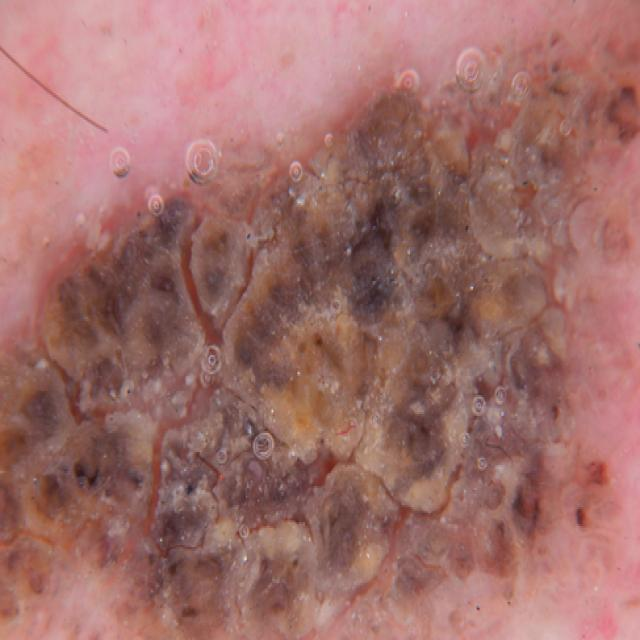Keratosis: (0, 70, 640, 640)
